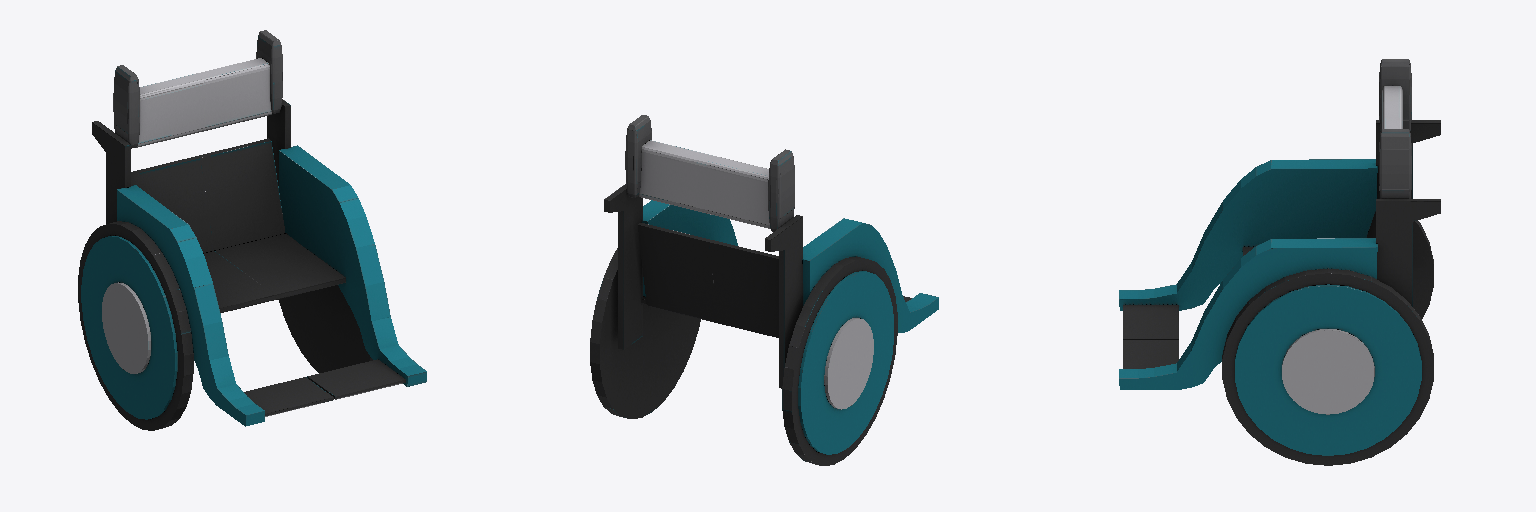
3 renders of one model, left to right at view 1: azimuth 30°, elevation 25°; view 2: azimuth 150°, elevation 25°; view 3: azimuth 270°, elevation 25°, orthographic.
Parts seen in each view (by area): view 1: ChamferBox002; view 2: ChamferBox002; view 3: ChamferBox002.
Part boxes in pixels (left/top/right/bottom): ChamferBox002: left=78, top=30, right=426, bottom=430; ChamferBox002: left=590, top=115, right=938, bottom=465; ChamferBox002: left=1119, top=59, right=1440, bottom=465.
Size of the model in its own units: 5.9 by 8.48 by 7.72.
1 materials, 1 textured.